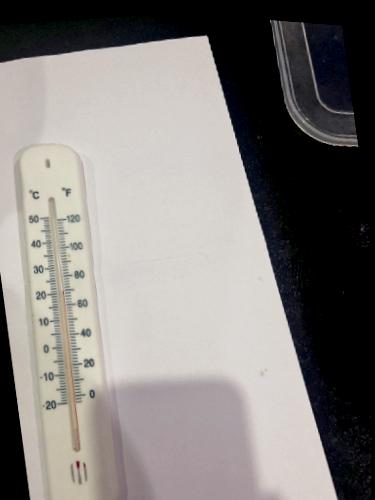thermo: (17, 140, 126, 500)
